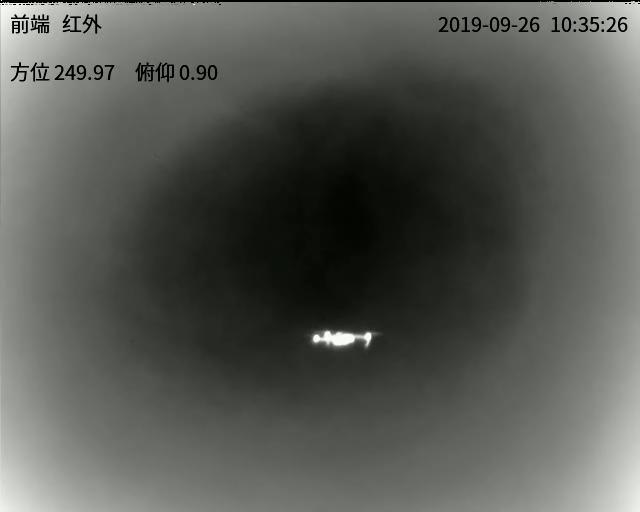uav: (305, 327, 378, 348)
